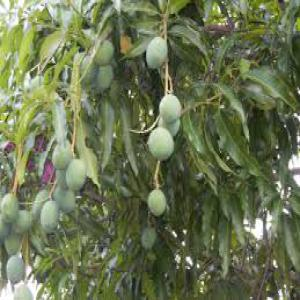Tree: (0, 3, 279, 297)
